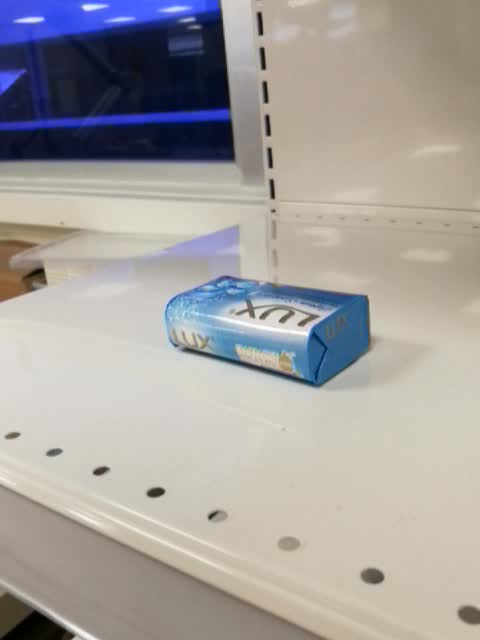soap: (163, 274, 372, 390)
